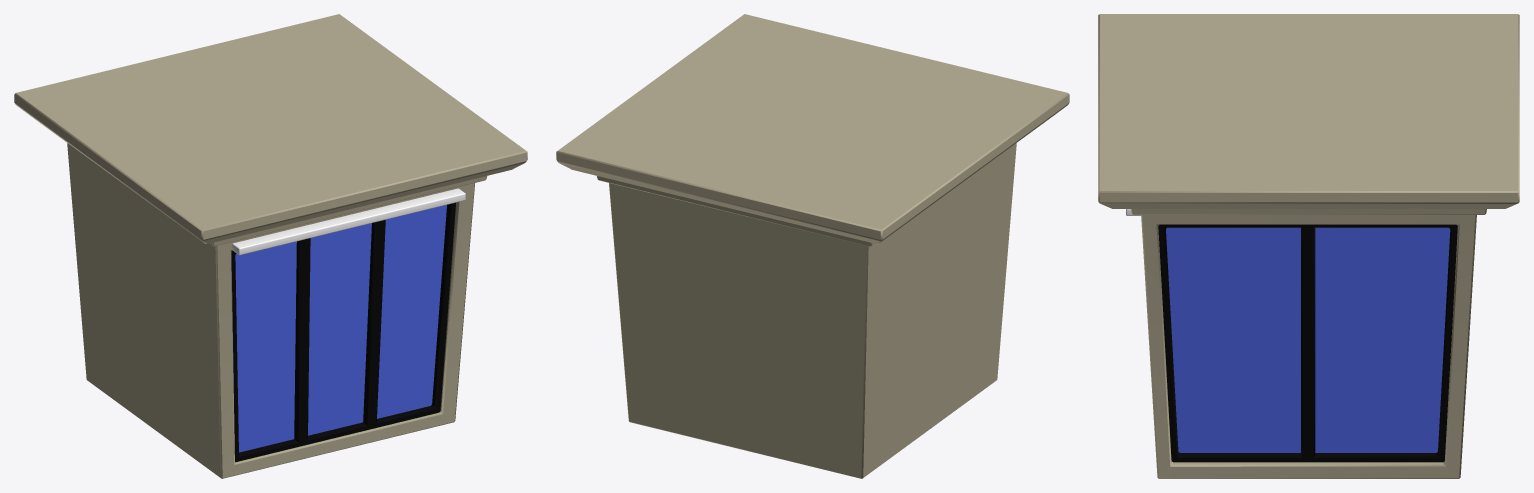
File: floor1_0.fbx
The picture shows the model from 3 angles, left to right: view 1: azimuth 30°, elevation 25°; view 2: azimuth 150°, elevation 25°; view 3: azimuth 270°, elevation 25°; orthographic projection. The views are drawn at different scales.
Parts seen in each view (by area): view 1: floor_1_0; view 2: floor_1_0; view 3: floor_1_0.
Part boxes in pixels (left/top/right/bottom): floor_1_0: left=14, top=14, right=527, bottom=478; floor_1_0: left=556, top=14, right=1069, bottom=478; floor_1_0: left=1098, top=14, right=1519, bottom=478.
Size of the model in its own units: 97.35 by 79.79 by 97.35.
